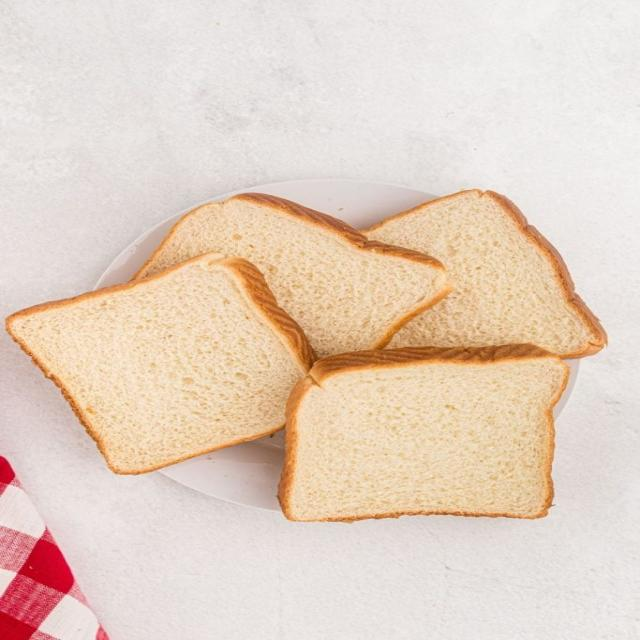Bread: (6, 254, 315, 474), (133, 194, 452, 357), (279, 344, 568, 521), (364, 190, 607, 359)
